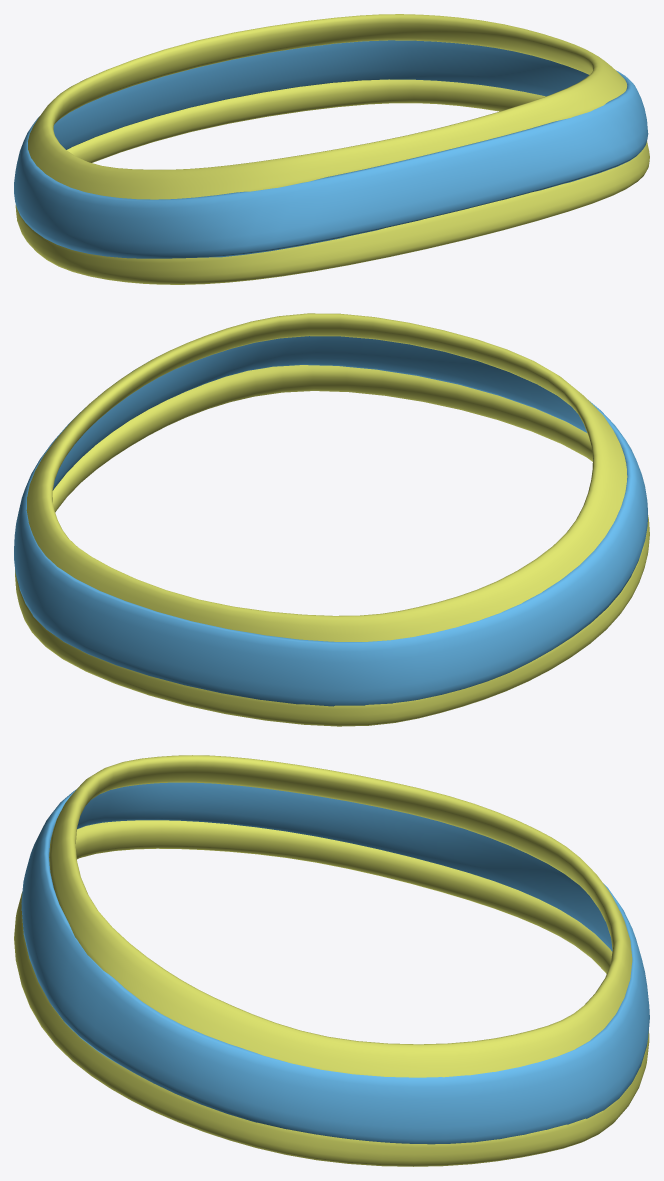
File: hairband.glb
3 renders of one model, top to bottom at view 1: azimuth 30°, elevation 25°; view 2: azimuth 150°, elevation 25°; view 3: azimuth 270°, elevation 25°, orthographic. The views are drawn at different scales.
Parts seen in each view (by area): view 1: Head.002; view 2: Head.002; view 3: Head.002.
Part boxes in pixels (bbox=[...]): Head.002: bbox=[14, 14, 649, 284]; Head.002: bbox=[14, 313, 649, 726]; Head.002: bbox=[14, 755, 649, 1166].
Size of the model in its own units: 1.7 by 0.5552 by 1.5.
